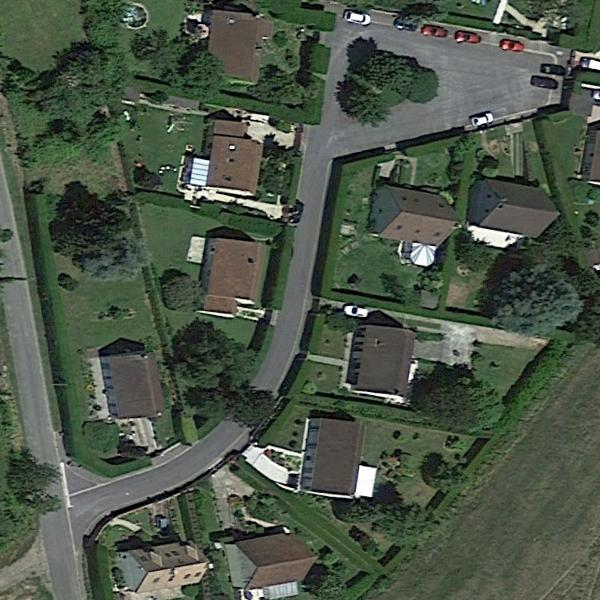Buildings: (475, 174, 566, 243), (192, 238, 260, 316), (112, 539, 204, 589), (372, 193, 451, 248), (303, 424, 363, 496), (93, 352, 159, 416), (203, 119, 259, 190), (230, 538, 310, 586), (354, 336, 414, 389), (215, 15, 263, 79), (589, 129, 600, 190)
